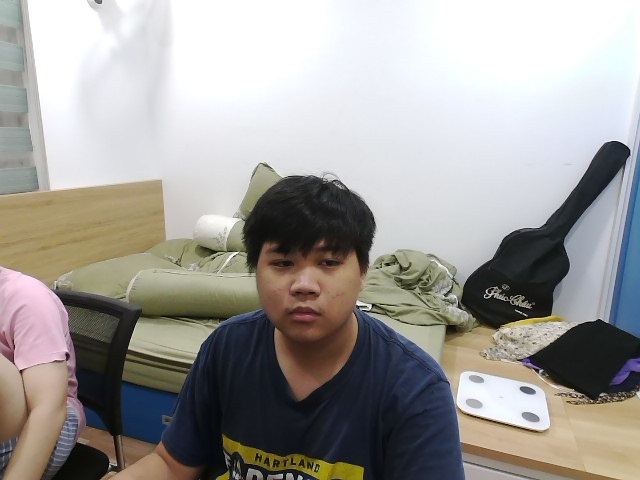face: (242, 174, 378, 343)
